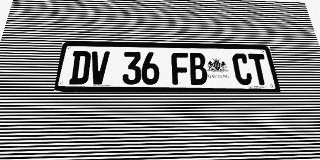3: (122, 52, 141, 85)
6: (141, 52, 159, 85)
B: (188, 53, 208, 85)
C: (231, 53, 253, 85)
D: (69, 51, 91, 84)
F: (171, 52, 190, 85)
T: (248, 54, 271, 85)
V: (88, 51, 110, 84)
